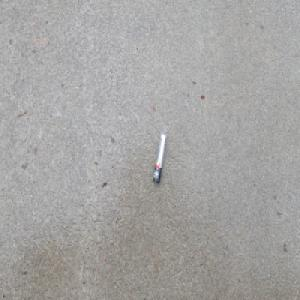Battery: (153, 131, 167, 184)
